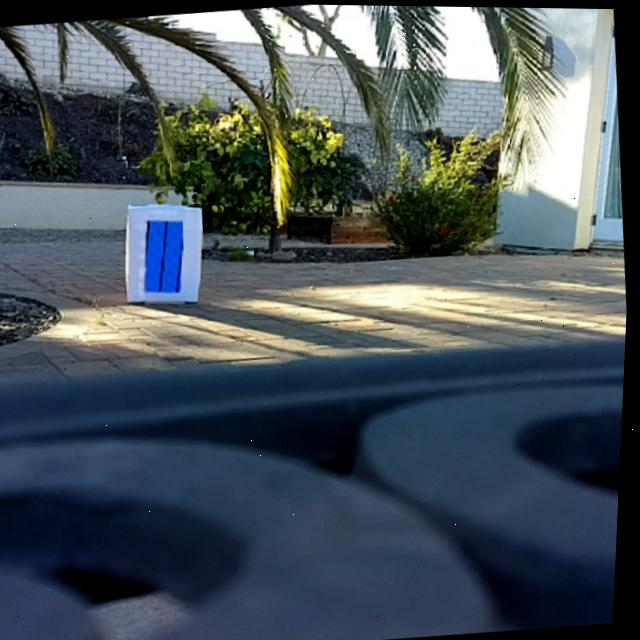led: (141, 218, 190, 294)
